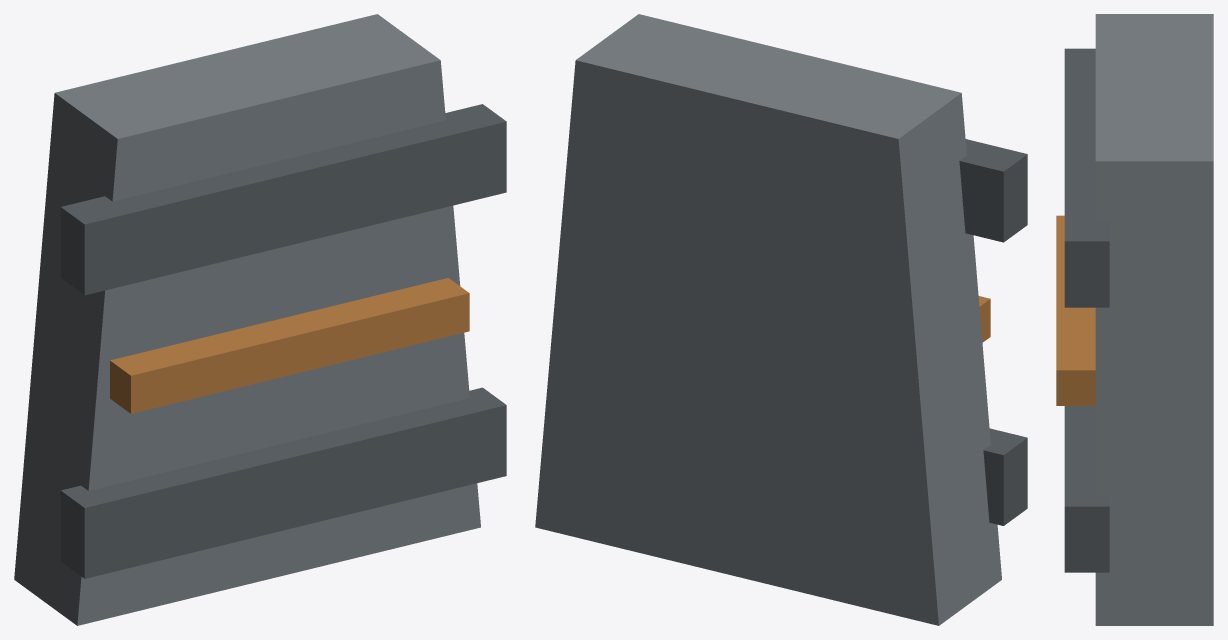
File: titan_plate.glb
3 renders of one model, left to right at view 1: azimuth 30°, elevation 25°; view 2: azimuth 150°, elevation 25°; view 3: azimuth 270°, elevation 25°, orthographic. The views are drawn at different scales.
Visible parts, largest first — view 1: slab, rib_a, rib_b, boltrow; view 2: slab, rib_a, rib_b; view 3: slab, rib_a, rib_b, boltrow.
Boxes of the visible parts, bbox=[...] form: slab: bbox=[14, 14, 480, 625]; rib_a: bbox=[60, 104, 506, 295]; rib_b: bbox=[60, 387, 506, 578]; boltrow: bbox=[110, 278, 469, 413]; slab: bbox=[535, 14, 1001, 625]; rib_a: bbox=[959, 139, 1027, 242]; rib_b: bbox=[983, 428, 1027, 525]; slab: bbox=[1095, 14, 1213, 625]; rib_a: bbox=[1064, 48, 1109, 307]; rib_b: bbox=[1064, 406, 1109, 572]; boltrow: bbox=[1056, 215, 1095, 405].
Bounding box in the file's own units: 1.62 × 1.75 × 0.56.
